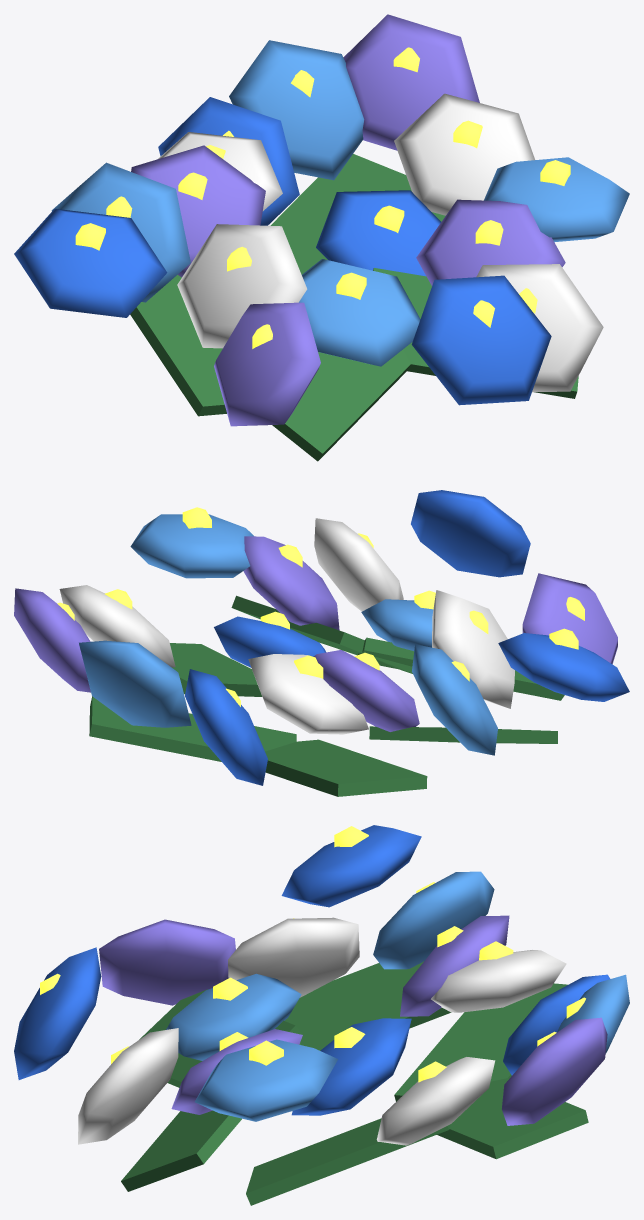
The model's file is flower-wreath.glb.
The picture shows the model from 3 angles, top to bottom: view 1: azimuth 30°, elevation 25°; view 2: azimuth 150°, elevation 25°; view 3: azimuth 270°, elevation 25°; orthographic projection. The views are drawn at different scales.
Parts seen in each view (by area): view 1: FlowerWreath_flowerBlue1, FlowerWreath_flowerLavender, FlowerWreath_flowerCyan, FlowerWreath_flowerWhite, FlowerWreath_leafGreen, FlowerWreath_flowerCenterGold; view 2: FlowerWreath_flowerBlue1, FlowerWreath_flowerCyan, FlowerWreath_flowerWhite, FlowerWreath_flowerLavender, FlowerWreath_leafGreen, FlowerWreath_flowerCenterGold; view 3: FlowerWreath_leafGreen, FlowerWreath_flowerWhite, FlowerWreath_flowerCyan, FlowerWreath_flowerLavender, FlowerWreath_flowerBlue1, FlowerWreath_flowerCenterGold.
Part boxes in pixels (x1,y1,x2,y2): FlowerWreath_flowerBlue1: [14, 97, 551, 405]; FlowerWreath_flowerLavender: [131, 14, 565, 426]; FlowerWreath_flowerCyan: [51, 40, 629, 366]; FlowerWreath_flowerWhite: [158, 93, 603, 392]; FlowerWreath_leafGreen: [130, 154, 578, 461]; FlowerWreath_flowerCenterGold: [75, 47, 570, 348]; FlowerWreath_flowerBlue1: [185, 490, 629, 785]; FlowerWreath_flowerCyan: [79, 514, 497, 755]; FlowerWreath_flowerWhite: [59, 518, 514, 734]; FlowerWreath_flowerLavender: [14, 536, 617, 731]; FlowerWreath_leafGreen: [89, 595, 564, 796]; FlowerWreath_flowerCenterGold: [57, 507, 584, 706]; FlowerWreath_leafGreen: [121, 961, 588, 1205]; FlowerWreath_flowerWhite: [78, 917, 566, 1145]; FlowerWreath_flowerCyan: [166, 871, 629, 1121]; FlowerWreath_flowerLavender: [99, 915, 607, 1125]; FlowerWreath_flowerBlue1: [14, 825, 610, 1115]; FlowerWreath_flowerCenterGold: [40, 826, 585, 1082].
Bounding box in the file's own units: 0.465 × 0.1657 × 0.4579.
